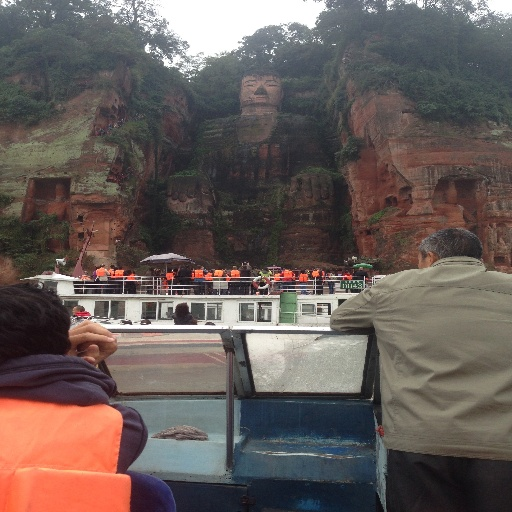hand: (62, 318, 119, 365), (76, 340, 116, 368)
